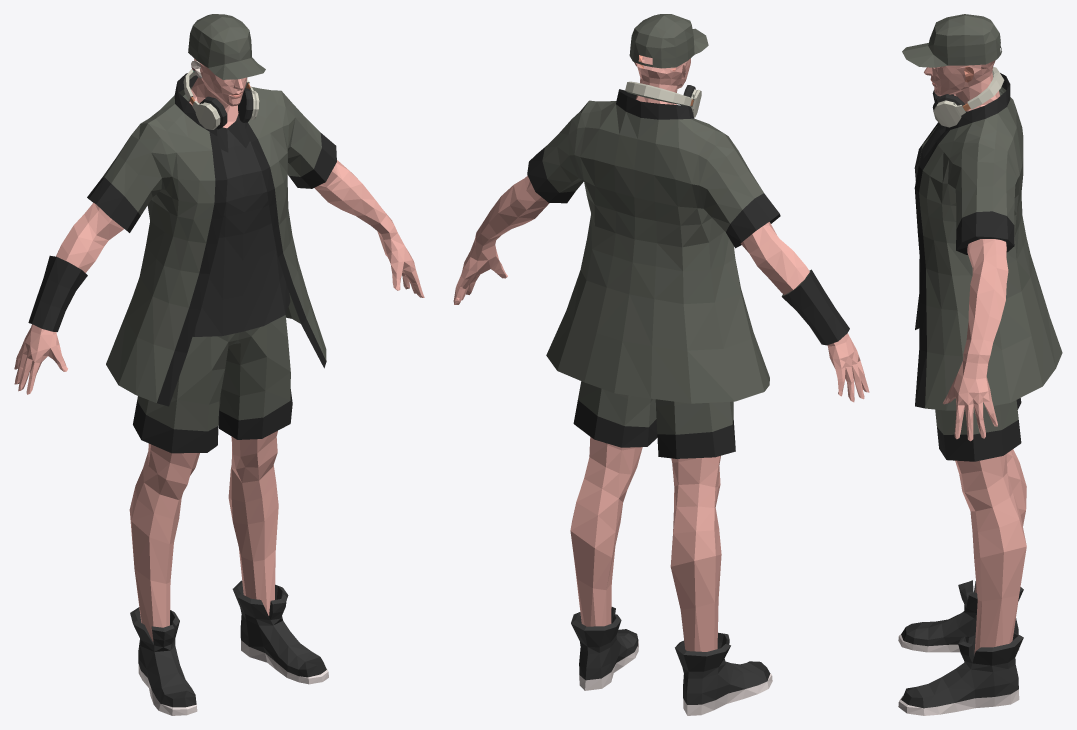
Rendered from Character_nan_yang_01.FBX.
3 renders of one model, left to right at view 1: azimuth 30°, elevation 25°; view 2: azimuth 150°, elevation 25°; view 3: azimuth 270°, elevation 25°, orthographic.
Parts seen in each view (by area): view 1: Mesh_024, Mesh_025; view 2: Mesh_024, Mesh_025; view 3: Mesh_024, Mesh_025.
Boxes of the visible parts, <box> form: Mesh_024: <box>14,14,424,715</box>; Mesh_025: <box>191,59,247,106</box>; Mesh_024: <box>453,14,869,715</box>; Mesh_025: <box>634,55,690,88</box>; Mesh_024: <box>898,14,1062,715</box>; Mesh_025: <box>924,60,995,96</box>.
Bounding box in the file's own units: 1.15 × 1.81 × 0.4078.
